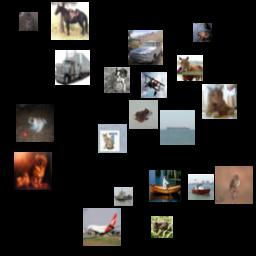airplane: (83, 208, 121, 246), (141, 72, 167, 98)
automobile: (128, 30, 163, 65)
bird: (215, 166, 253, 204)
cat: (202, 84, 237, 119), (98, 124, 127, 153), (19, 12, 38, 31)
dog: (14, 152, 52, 190), (16, 104, 54, 142), (104, 67, 130, 93)
frog: (129, 100, 158, 129), (151, 216, 173, 238), (193, 23, 212, 42)
ship: (160, 110, 195, 145), (149, 170, 181, 202), (188, 174, 214, 200), (114, 187, 133, 206)
truck: (55, 50, 90, 85)
